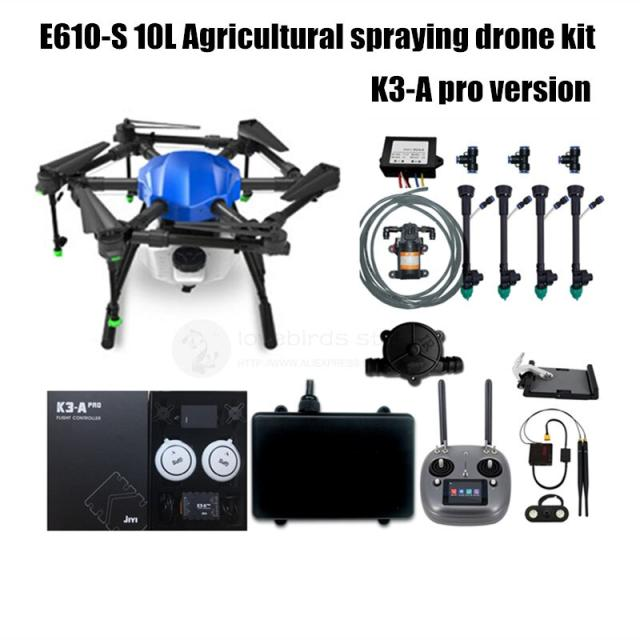drone: (23, 96, 341, 354)
